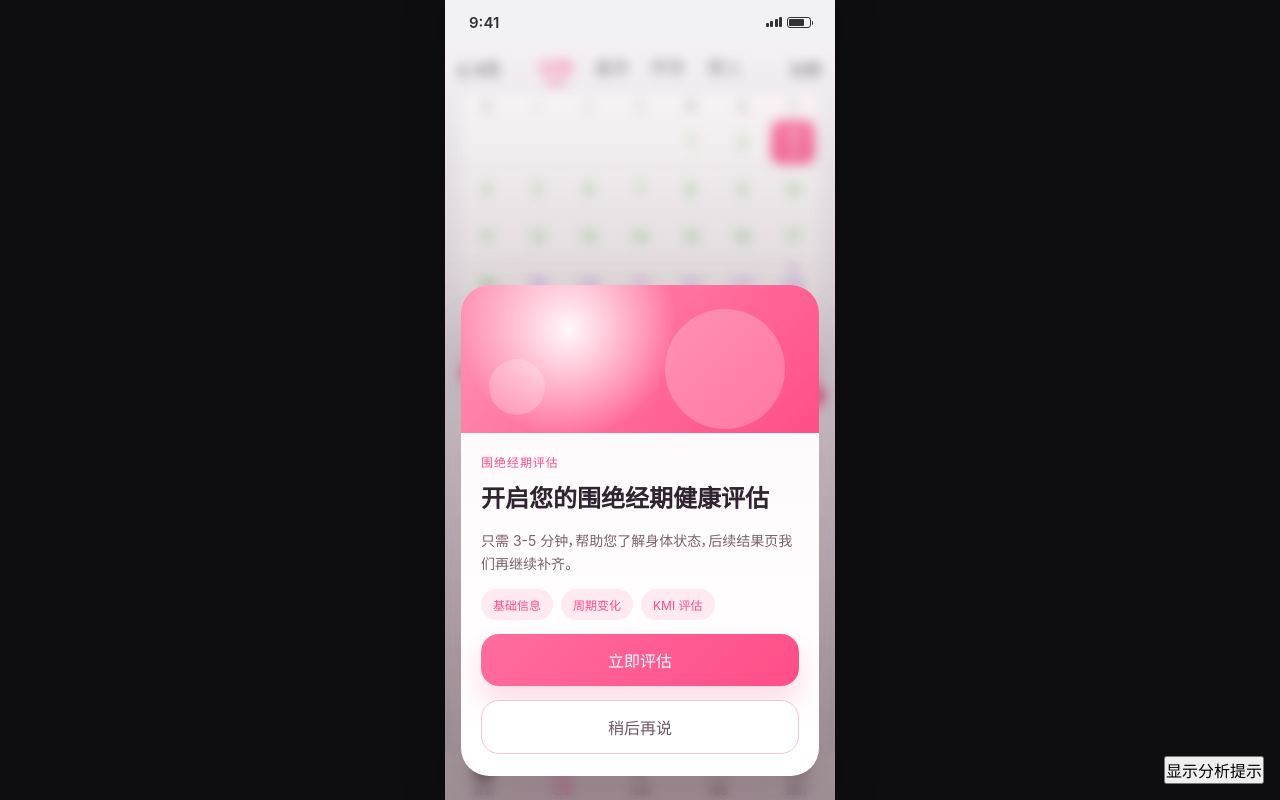
Test case: scene1 controls › can toggle the prototype analysis notice in dev controls
What coordinates should you click on to do the following:
click the button "稍后再说"
I would click on:
 (640, 727)
Its box is x1=481 y1=700 x2=799 y2=754.
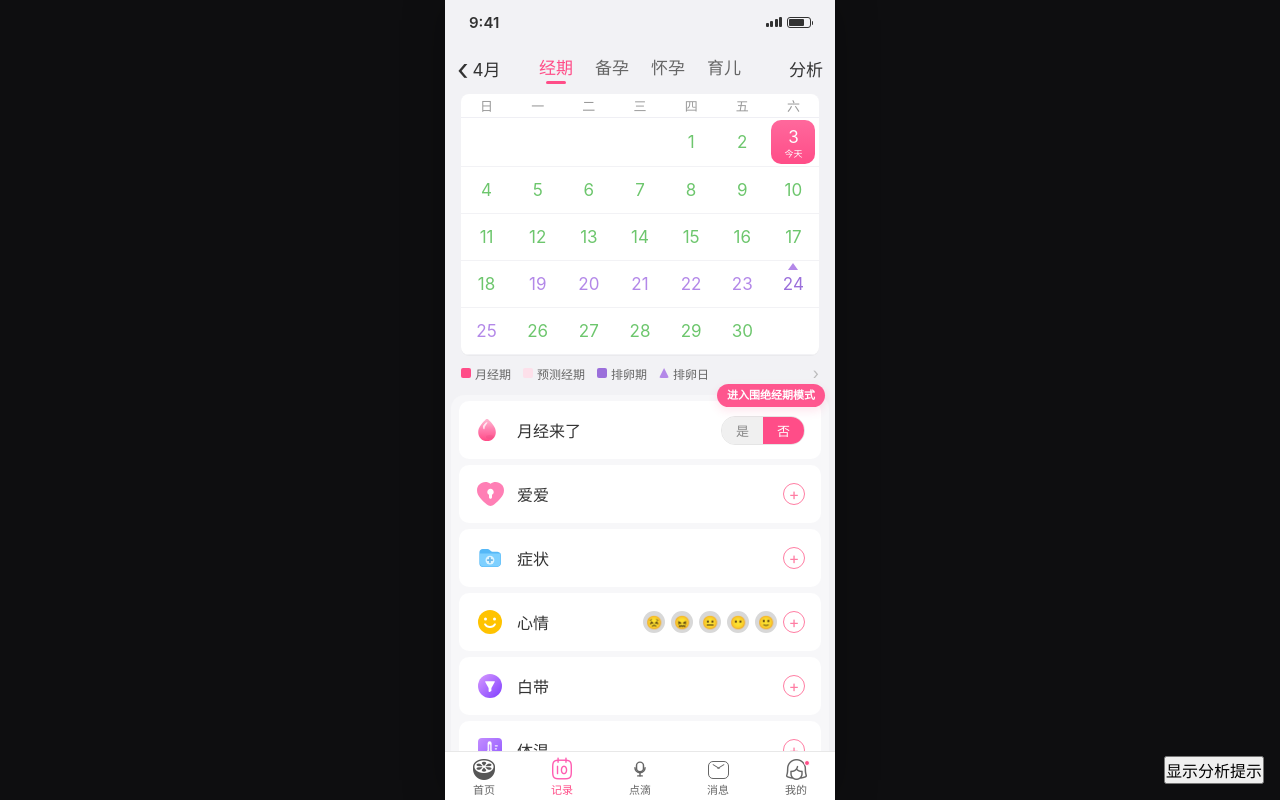
What coordinates should you click on to do the following:
click the button "显示分析提示"
I would click on:
 (1214, 770)
Its box is x1=1164 y1=756 x2=1264 y2=784.
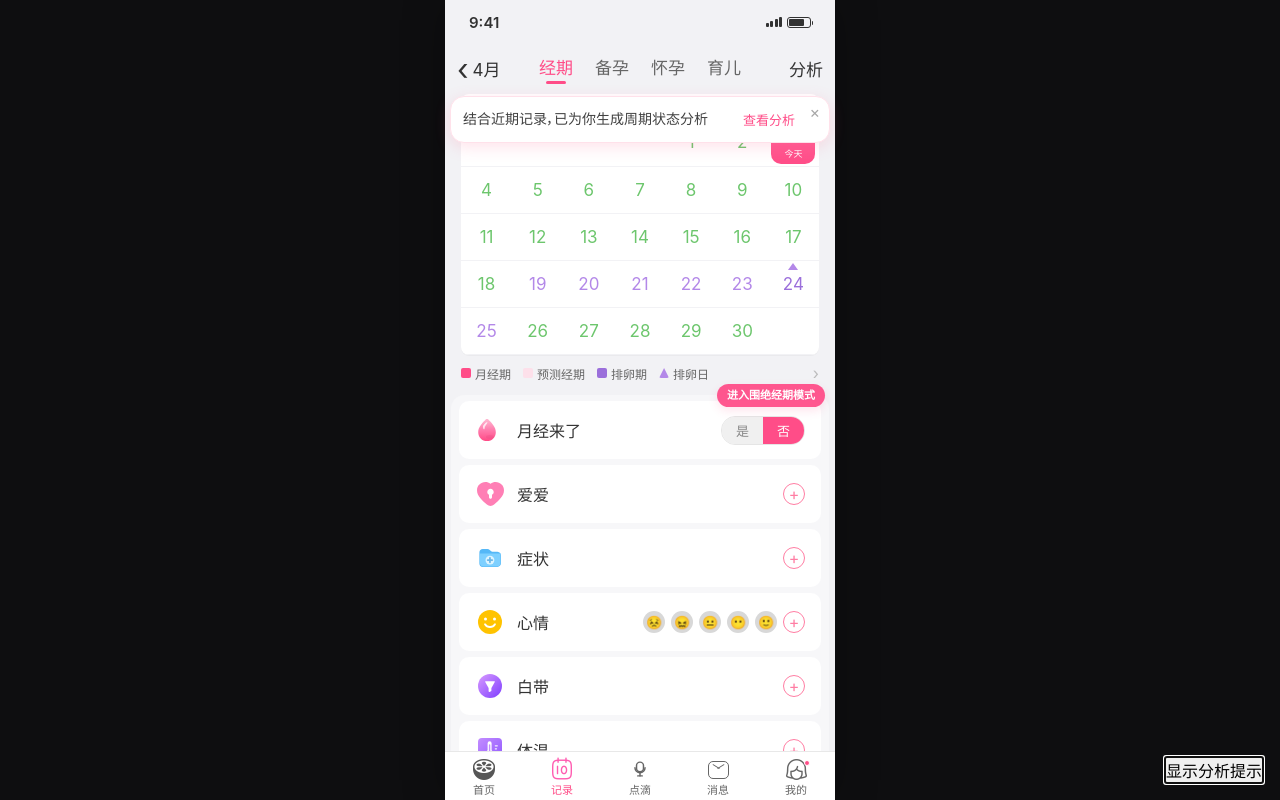
Expected: the text "结合近期记录，已为你生成周期状态分析" is shown, x1=463 y1=109 x2=733 y2=130
